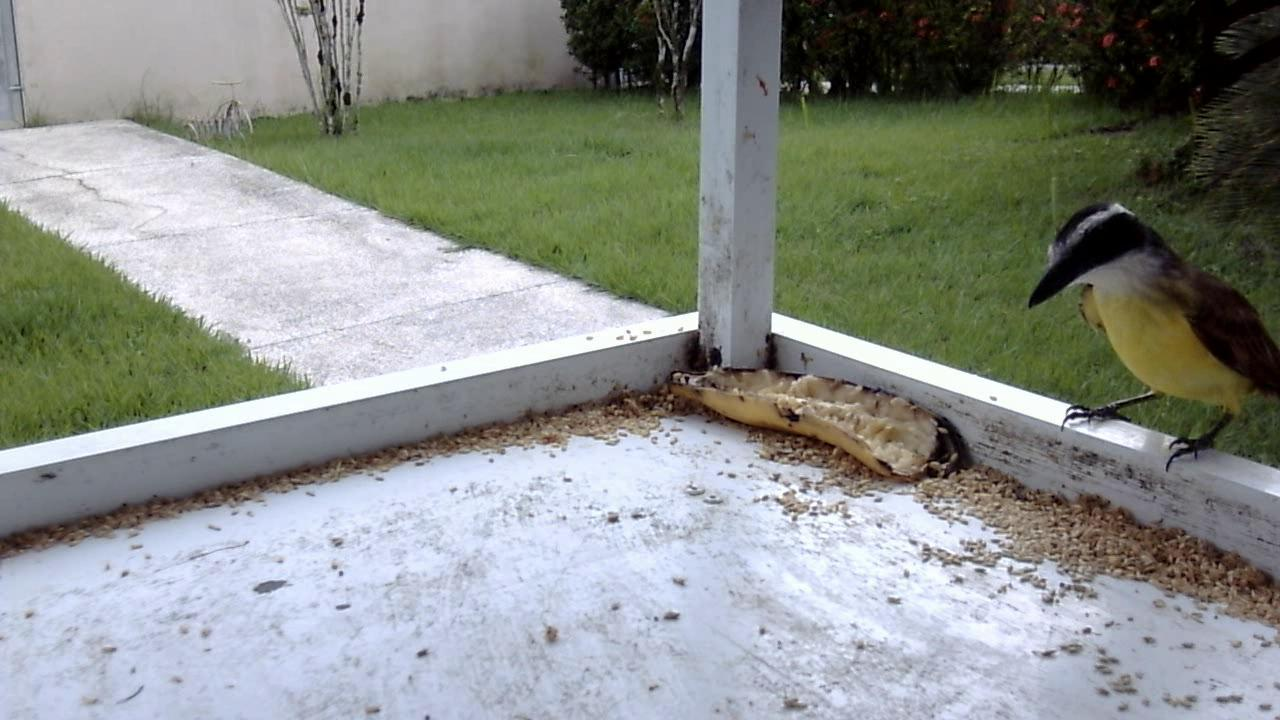bem_te_vi: (1019, 190, 1275, 493)
